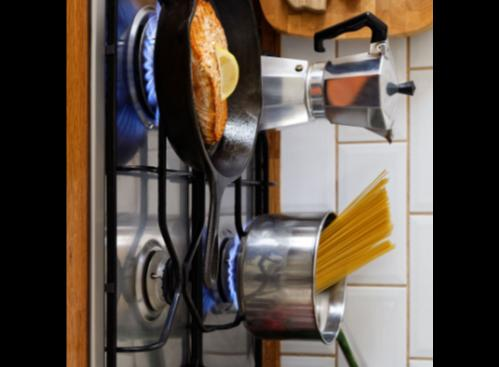controlled_fire: (133, 0, 172, 143), (207, 219, 252, 338)
